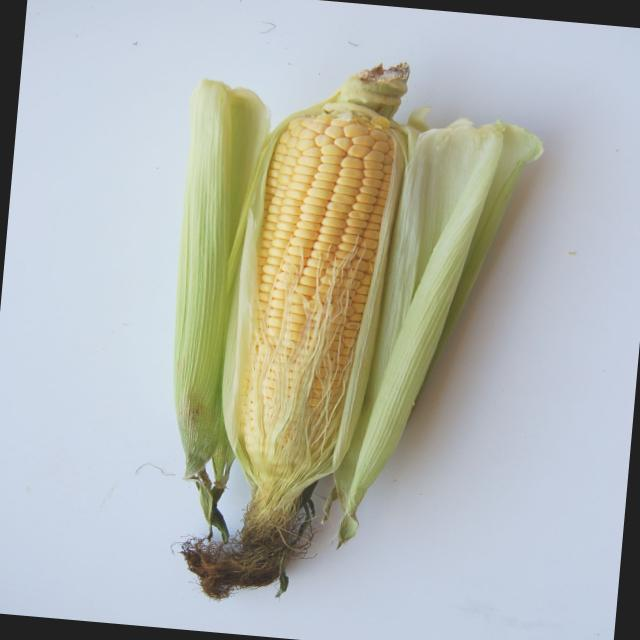corn: (158, 38, 567, 622)
